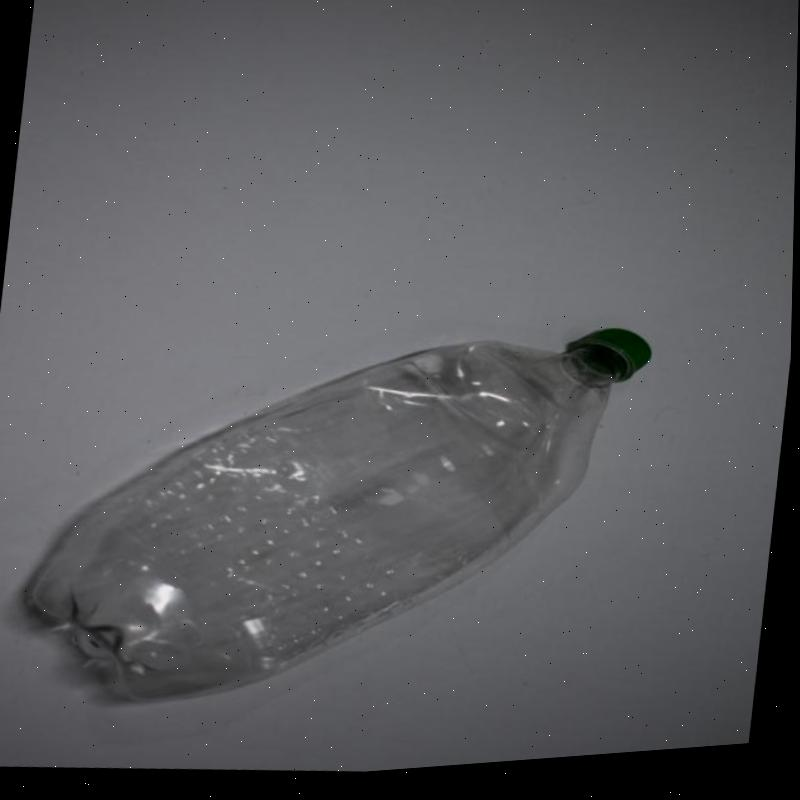botella: (11, 285, 655, 755)
